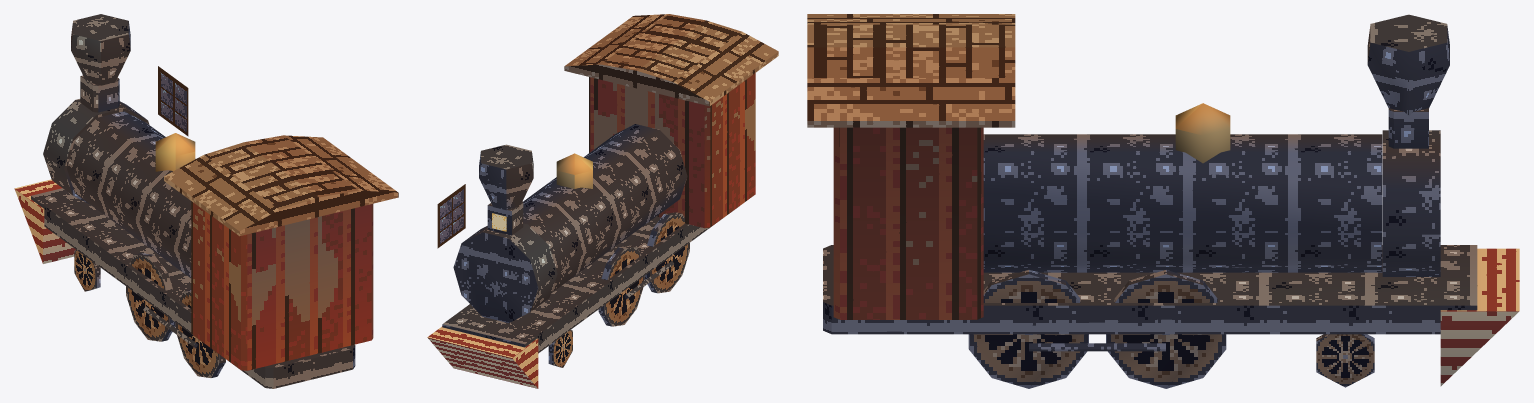
Rendered from wrail.locomotive.glb.
3 views of the same model, side by side, from view 1: azimuth 30°, elevation 25°; view 2: azimuth 150°, elevation 25°; view 3: azimuth 270°, elevation 25° (orthographic). The views are drawn at different scales.
Parts seen in each view (by area): view 1: kit_cab, kit_cab_roof, kit_boiler, kit_frame, kit_drivers, kit_stack, kit_smokebox, kit_pilot, kit_card_panes, kit_domes, kit_lamp, kit_leaders (+1 smaller); view 2: kit_boiler, kit_cab, kit_cab_roof, kit_frame, kit_smokebox, kit_pilot, kit_drivers, kit_stack, kit_card_panes, kit_domes, kit_lamp, kit_leaders; view 3: kit_boiler, kit_frame, kit_cab, kit_cab_roof, kit_drivers, kit_smokebox, kit_stack, kit_pilot, kit_leaders, kit_domes, kit_lamp, kit_rods.
Part boxes in pixels (box(x1,y1,x2,y2)): kit_cab: box(191, 201, 373, 370); kit_cab_roof: box(164, 135, 398, 236); kit_boiler: box(67, 111, 195, 277); kit_frame: box(31, 188, 355, 388); kit_drivers: box(126, 253, 225, 377); kit_stack: box(71, 14, 130, 85); kit_smokebox: box(43, 99, 149, 203); kit_pilot: box(14, 179, 75, 263); kit_card_panes: box(158, 66, 188, 136); kit_domes: box(155, 133, 195, 171); kit_lamp: box(80, 75, 119, 112); kit_leaders: box(74, 250, 100, 291); kit_boiler: box(523, 124, 687, 293); kit_cab: box(589, 73, 755, 228); kit_cab_roof: box(564, 14, 778, 106); kit_frame: box(442, 215, 726, 353); kit_smokebox: box(453, 223, 557, 322); kit_pilot: box(427, 326, 538, 388); kit_drivers: box(598, 212, 689, 326); kit_stack: box(479, 144, 533, 210); kit_card_panes: box(437, 184, 465, 248); kit_domes: box(556, 153, 592, 188); kit_lamp: box(487, 201, 523, 235); kit_leaders: box(548, 330, 572, 367); kit_boiler: box(983, 134, 1382, 272); kit_frame: box(823, 245, 1477, 334); kit_cab: box(833, 127, 983, 319); kit_cab_roof: box(807, 14, 1015, 127); kit_drivers: box(968, 270, 1226, 388); kit_smokebox: box(1382, 130, 1440, 276); kit_stack: box(1367, 14, 1449, 116); kit_pilot: box(1440, 248, 1519, 386); kit_leaders: box(1316, 334, 1374, 387); kit_domes: box(1175, 103, 1230, 163); kit_lamp: box(1388, 108, 1428, 148); kit_rods: box(1029, 343, 1165, 351).
Size of the model in its own units: 2.4 by 3.43 by 6.75.
Materials: 8 (7 with a texture image).
